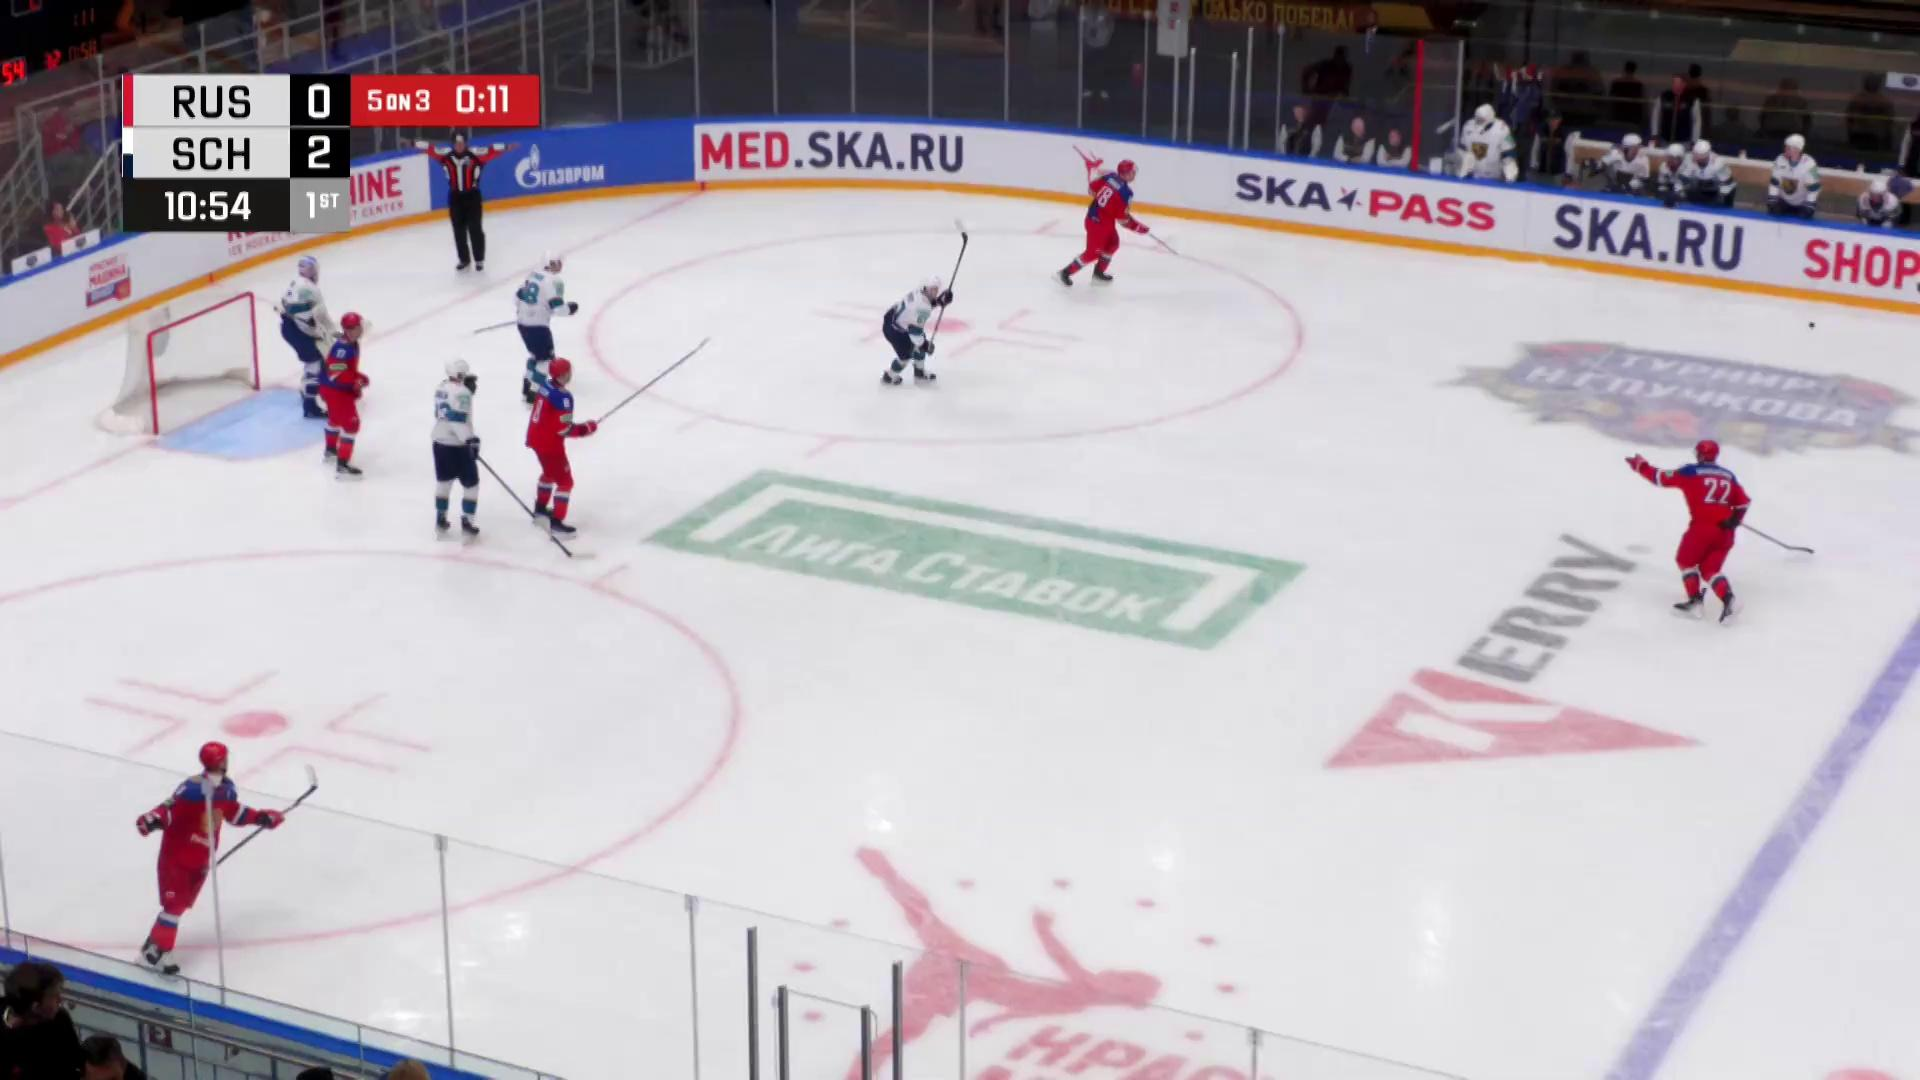ball: (1807, 322, 1816, 330)
